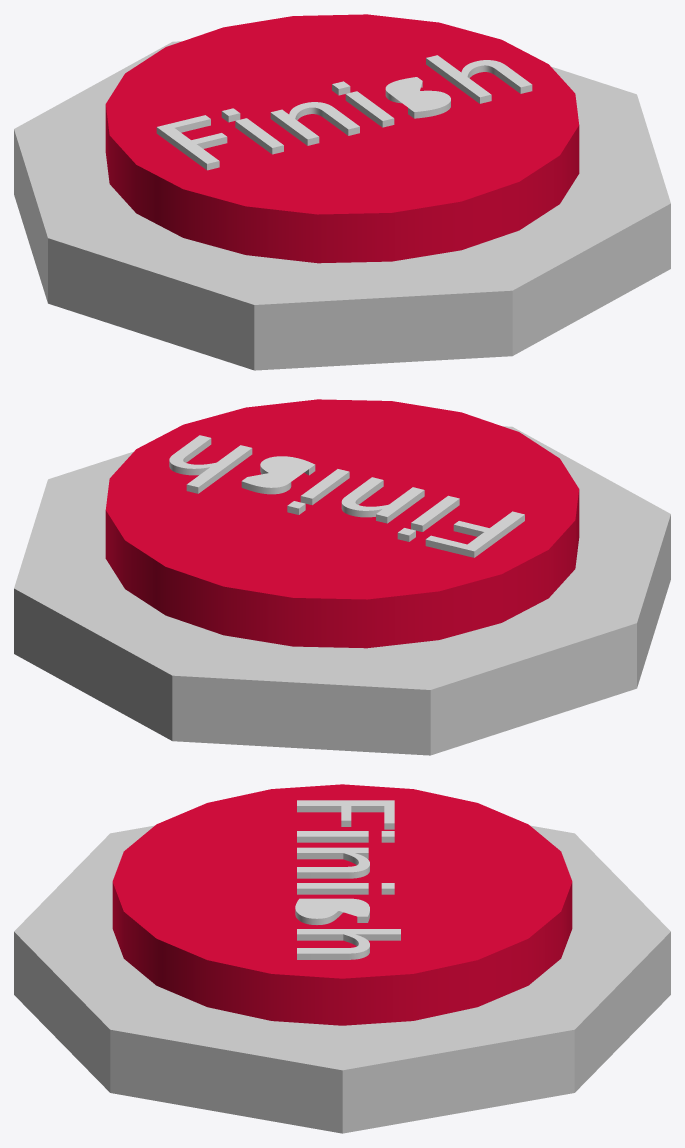
The model's file is FINISHbutton.fbx.
3 views of the same model, one above another, from view 1: azimuth 30°, elevation 25°; view 2: azimuth 150°, elevation 25°; view 3: azimuth 270°, elevation 25° (orthographic). The views are drawn at different scales.
Visible parts, largest first — view 1: pCylinder1, pCylinder2, typeMesh1; view 2: pCylinder1, pCylinder2, typeMesh1; view 3: pCylinder1, pCylinder2, typeMesh1.
Boxes of the visible parts, x1,y1,x2,y2 form: pCylinder1: (14,41,670,370); pCylinder2: (105,14,579,263); typeMesh1: (156,55,532,170); pCylinder1: (14,426,670,755); pCylinder2: (105,399,579,648); typeMesh1: (169,435,524,557); pCylinder1: (14,825,670,1133); pCylinder2: (112,784,572,1025); typeMesh1: (295,800,400,959).
Size of the model in its own units: 2 by 0.4018 by 2.
